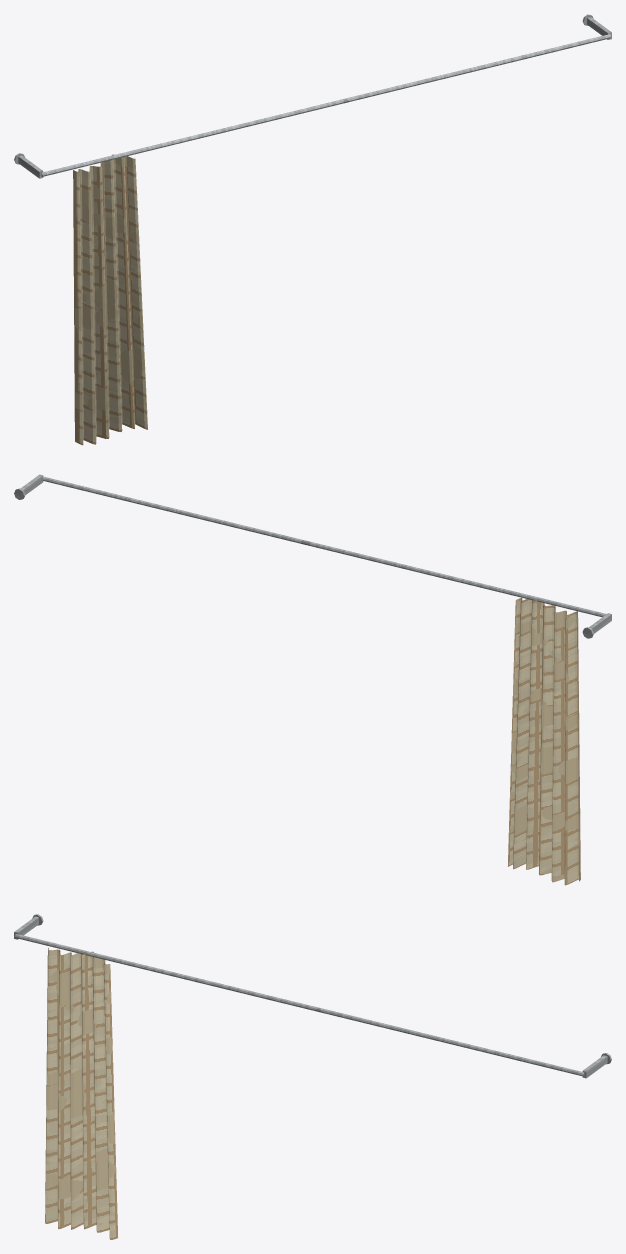
The model's file is gk_curtain.glb.
3 views of the same model, one above another, from view 1: azimuth 30°, elevation 25°; view 2: azimuth 150°, elevation 25°; view 3: azimuth 330°, elevation 25° (orthographic).
Parts seen in each view (by area): view 1: p; view 2: p; view 3: p.
Boxes of the visible parts, box(x1,y1,x2,y2) form: p: box(14, 14, 611, 445); p: box(14, 474, 611, 885); p: box(14, 914, 611, 1239).
Bounding box in the file's own units: 1.79 × 0.836 × 0.1521.
Materials: 2 (2 with a texture image).
